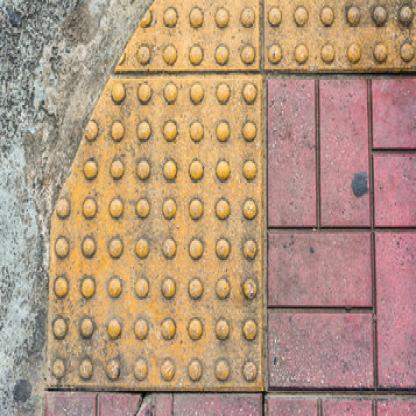podotacti: (51, 0, 414, 416)
